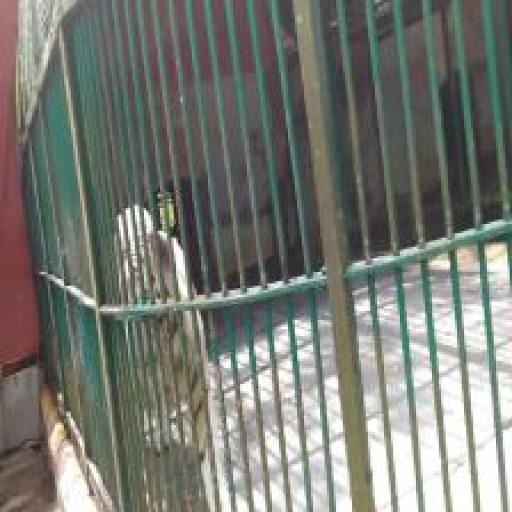Tiger: (112, 201, 247, 511)
